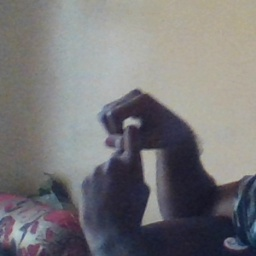Q: (76, 85, 175, 222)
